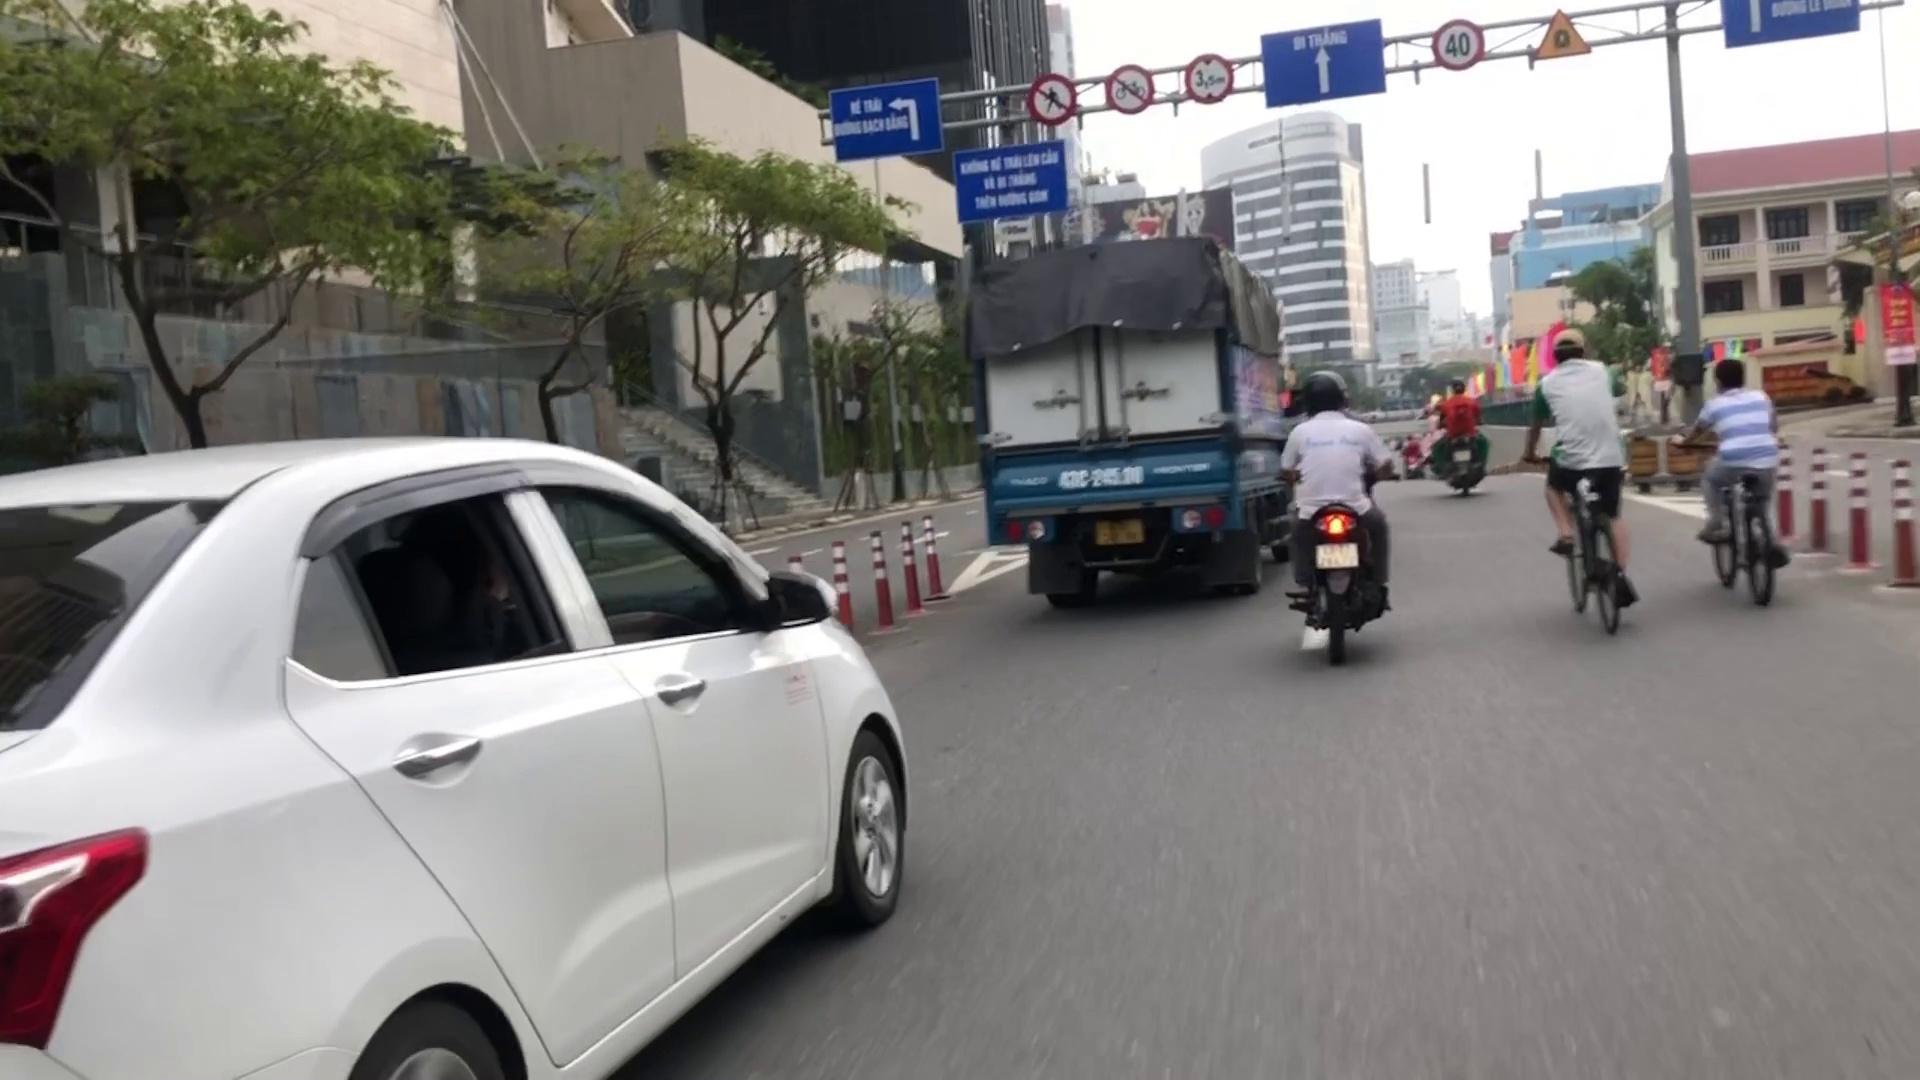Bien khac: (1431, 11, 1482, 71)
